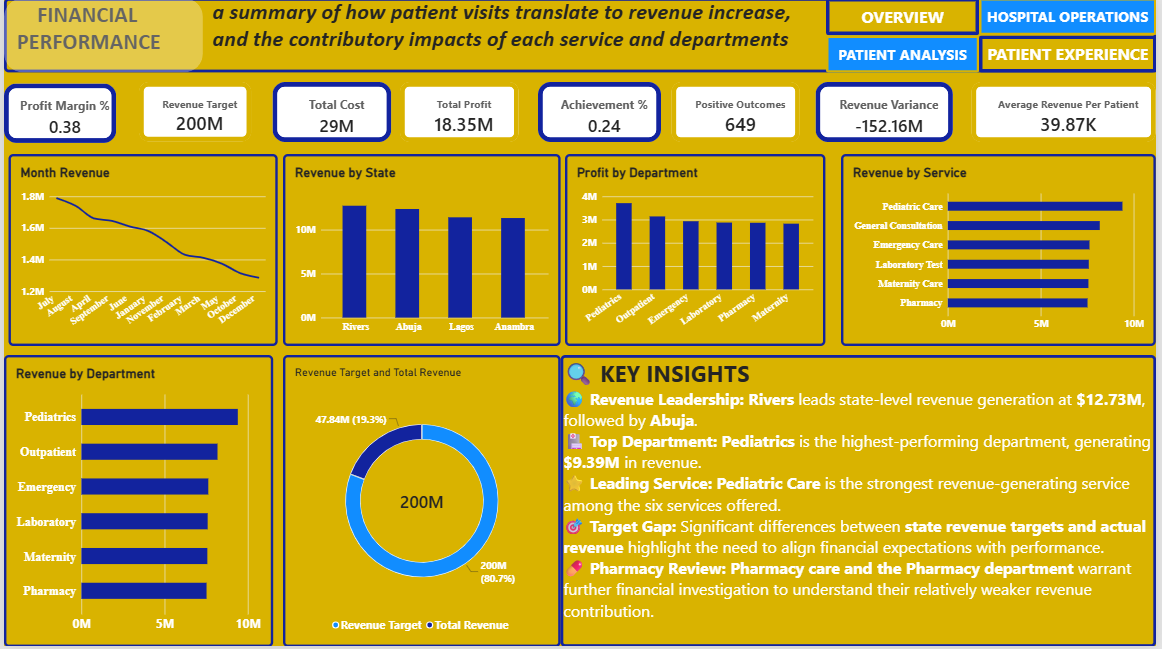

This screenshot's page, from the dashboard's own definition file:
{"tool":"powerbi","page":{"name":"FINANCIAL PERFORMANCE","canvas":[1920,1080],"ordinal":3},"visuals":[{"type":"clusteredBarChart","title":"Revenue by Service","fields":{"Category":["Patient_Visits.Service"],"Y":["Date_Table.Total Revenue"]},"box":[1395.1,260.1,524.9,319.7],"z":0},{"type":"clusteredColumnChart","title":"Revenue by State","fields":{"Category":["Patient_Visits.State"],"Y":["Date_Table.Total Revenue"]},"box":[465.3,260.1,462.9,319.7],"z":1000},{"type":"clusteredBarChart","title":"Revenue by Department","fields":{"Category":["Patient_Visits.Department"],"Y":["Date_Table.Total Revenue"]},"box":[0,594.1,448.6,486.7],"z":2000},{"type":"clusteredColumnChart","title":"Profit by Department","fields":{"Category":["Patient_Visits.Department"],"Y":["Date_Table.Total Profit"]},"box":[935.3,260.1,434.2,319.7],"z":3000},{"type":"lineChart","title":"Month Revenue","fields":{"Category":["Date_Table.Month"],"Y":["Date_Table.Total Profit"]},"box":[6.5,260.1,448.6,319.7],"z":4000},{"type":"donutChart","fields":{"Y":["Date_Table.Revenue Target","Date_Table.Total Revenue"]},"box":[465.3,594.1,462.9,486.7],"z":5000},{"type":"cardVisual","fields":{"Data":["Date_Table.Total Profit"]},"box":[660.9,140.8,198,100.2],"z":6000},{"type":"cardVisual","fields":{"Data":["Date_Table.Total Cost"]},"box":[448.6,140.8,198,100.2],"z":7000},{"type":"cardVisual","fields":{"Data":["Date_Table.Profit Margin %"]},"box":[0.2,141.4,187,99.6],"z":8000},{"type":"cardVisual","fields":{"Data":["Date_Table.Revenue Target"]},"box":[224.3,140.8,187,99.6],"z":9000},{"type":"cardVisual","fields":{"Data":["Date_Table.Revenue Variance"]},"box":[1352.8,140.8,229,100.2],"z":10000},{"type":"cardVisual","fields":{"Data":["Date_Table.Average Revenue Per Patient"]},"box":[1612.9,140.8,307.8,100.2],"z":11000},{"type":"cardVisual","fields":{"Data":["Date_Table.Achievement %"]},"box":[889.9,140.8,205.2,100.2],"z":12000},{"type":"textbox","box":[928.1,594.1,992.5,486.7],"z":13000},{"type":"textbox","box":[0,0,1920.7,124.1],"z":14000},{"type":"shape","box":[0,0,331.6,124.1],"z":15000},{"type":"actionButton","box":[1369.5,0,255.3,62],"z":16000},{"type":"actionButton","box":[1369.5,62,255.3,62],"z":17000},{"type":"actionButton","box":[1624.8,0,295.9,62],"z":18000},{"type":"actionButton","box":[1624.8,62,295.9,62],"z":19000},{"type":"textbox","box":[348.3,0,978.2,124.1],"z":20000},{"type":"cardVisual","fields":{"Data":["Date_Table.Positive Outcomes"]},"box":[1111.8,140.8,214.7,100.2],"z":21000}]}

Visuals, with their boxes in screenshot pixels (x1, y1, x2, y2), scaled from the page's 1920x1080 canvas onto the 1162x649 screenshot:
"Revenue by Service" clusteredBarChart: [left=844, top=156, right=1161, bottom=348]
"Revenue by State" clusteredColumnChart: [left=282, top=156, right=562, bottom=348]
"Revenue by Department" clusteredBarChart: [left=0, top=357, right=271, bottom=648]
"Profit by Department" clusteredColumnChart: [left=566, top=156, right=829, bottom=348]
"Month Revenue" lineChart: [left=4, top=156, right=275, bottom=348]
donutChart - Date_Table.Revenue Target x Date_Table.Total Revenue: [left=282, top=357, right=562, bottom=648]
cardVisual - Date_Table.Total Profit: [left=400, top=85, right=520, bottom=145]
cardVisual - Date_Table.Total Cost: [left=271, top=85, right=391, bottom=145]
cardVisual - Date_Table.Profit Margin %: [left=0, top=85, right=113, bottom=145]
cardVisual - Date_Table.Revenue Target: [left=136, top=85, right=249, bottom=144]
cardVisual - Date_Table.Revenue Variance: [left=819, top=85, right=957, bottom=145]
cardVisual - Date_Table.Average Revenue Per Patient: [left=976, top=85, right=1161, bottom=145]
cardVisual - Date_Table.Achievement %: [left=539, top=85, right=663, bottom=145]
textbox: [left=562, top=357, right=1161, bottom=648]
textbox: [left=0, top=0, right=1161, bottom=75]
shape: [left=0, top=0, right=201, bottom=75]
actionButton: [left=829, top=0, right=983, bottom=37]
actionButton: [left=829, top=37, right=983, bottom=75]
actionButton: [left=983, top=0, right=1161, bottom=37]
actionButton: [left=983, top=37, right=1161, bottom=75]
textbox: [left=211, top=0, right=803, bottom=75]
cardVisual - Date_Table.Positive Outcomes: [left=673, top=85, right=803, bottom=145]
